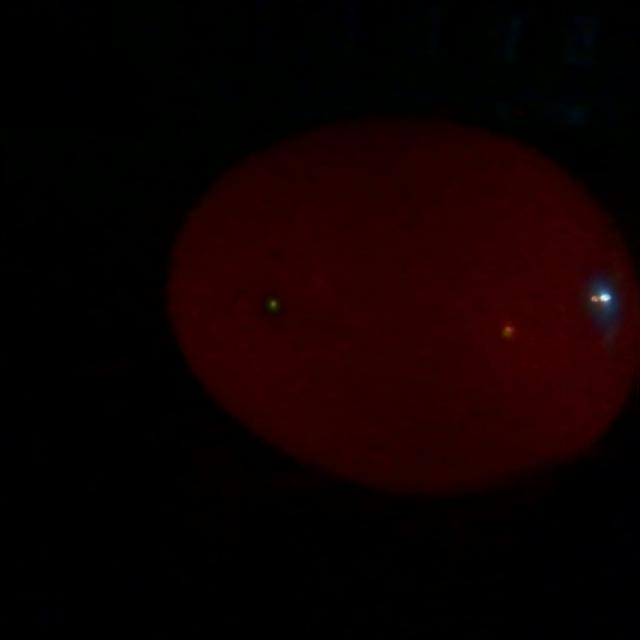balloon: (167, 119, 635, 494)
